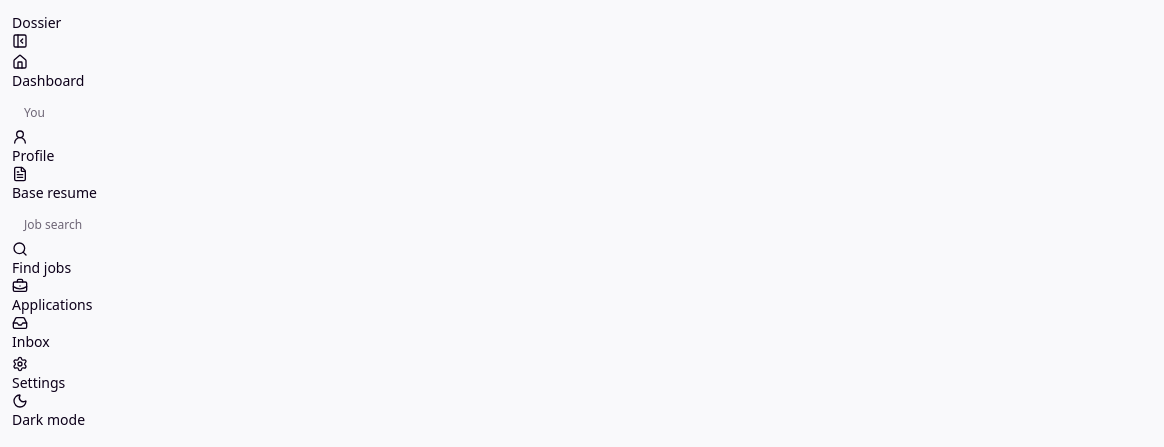
Test case: SidebarFrame › collapses to icons, keeps every link named, and remembers it
Step 1. Click the button named "Collapse sidebar" → click(20, 41), box x1=12 y1=33 x2=28 y2=49
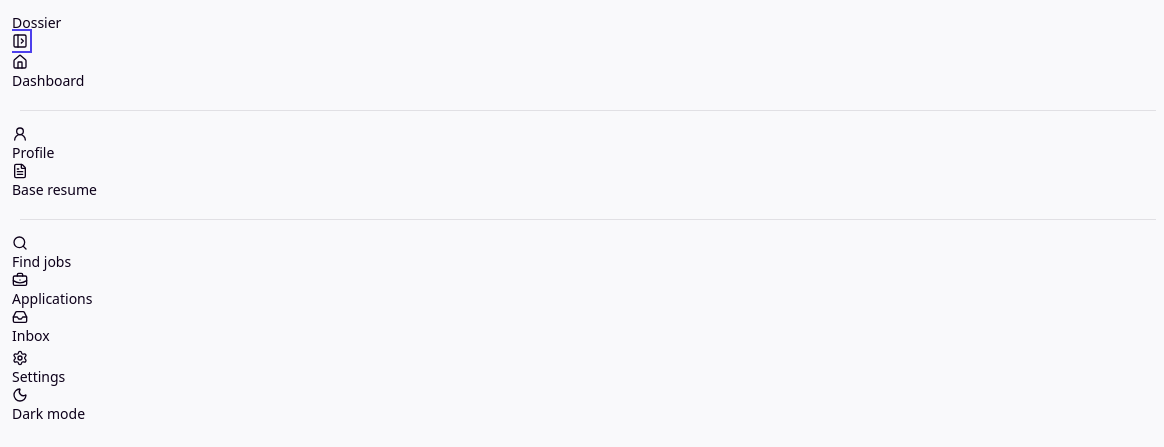
expect the element that starts with "Dossier" has attribute data-collapsed="true": met, box x1=12 y1=13 x2=97 y2=424
expect the link "Applications" has attribute title="Applications": met, box x1=12 y1=272 x2=92 y2=308
Step 2. Click the button named "Expand sidebar" → click(20, 41), box x1=12 y1=33 x2=28 y2=49
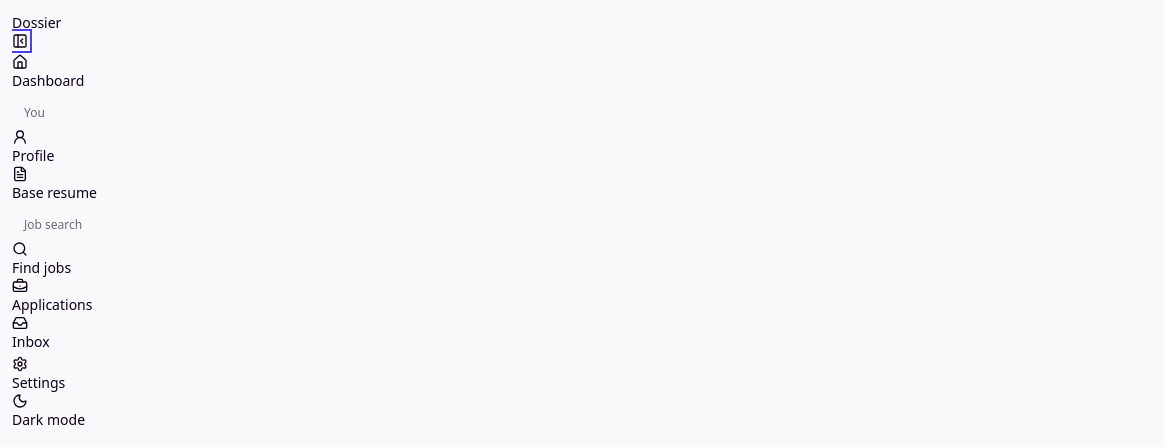
expect the element that starts with "Dossier" does not have attribute data-collapsed: met, box x1=12 y1=13 x2=97 y2=430
